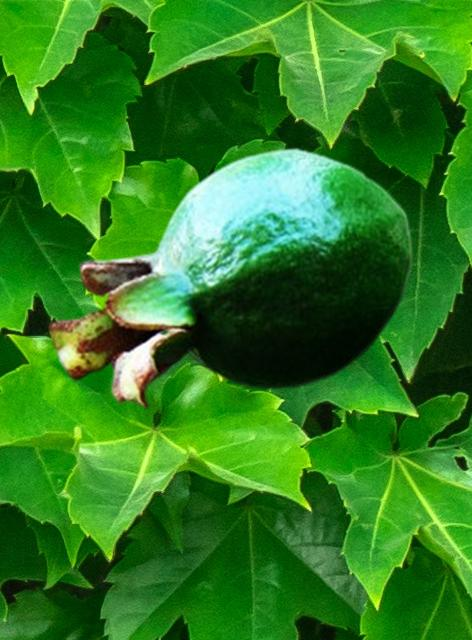guava: (47, 146, 413, 409)
